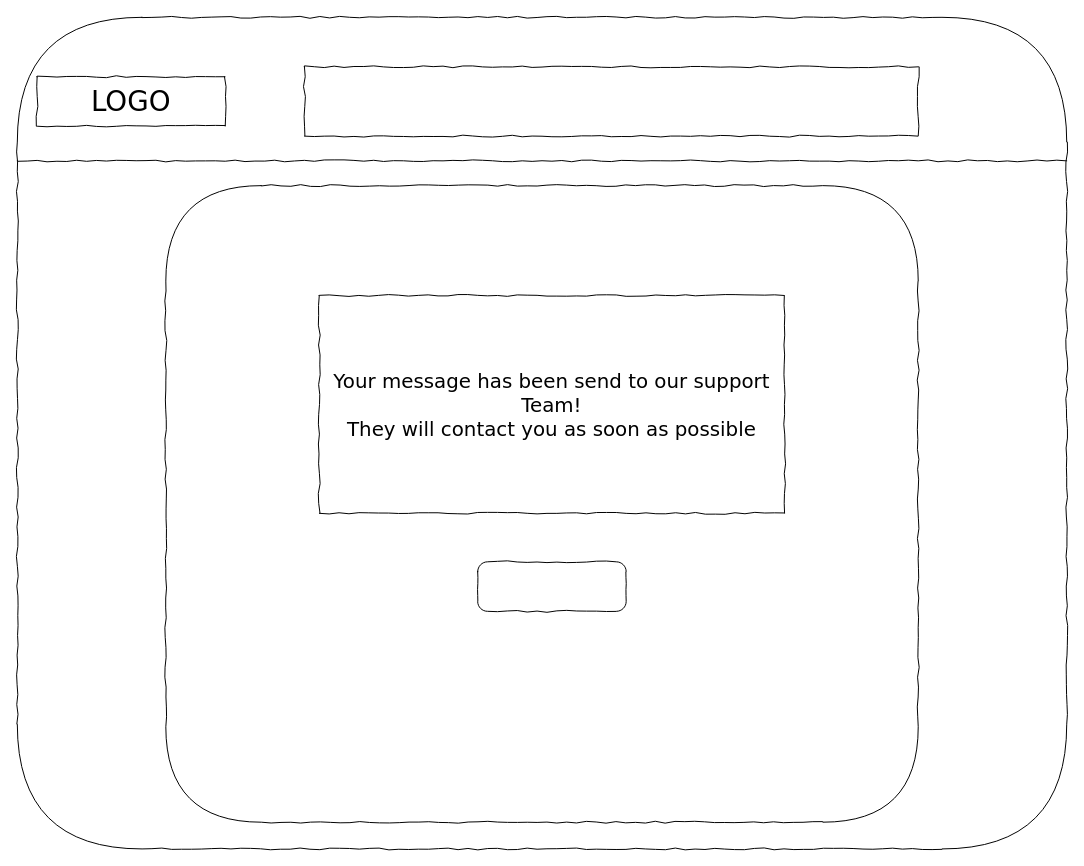
This 1084x866 diagram has some shape labels left out. Here are the shapes that lost their labels. From the top down, the centre of each, then its label:
At (610,101): "Contact our Support Team".
At (551,586): "Home Page".
